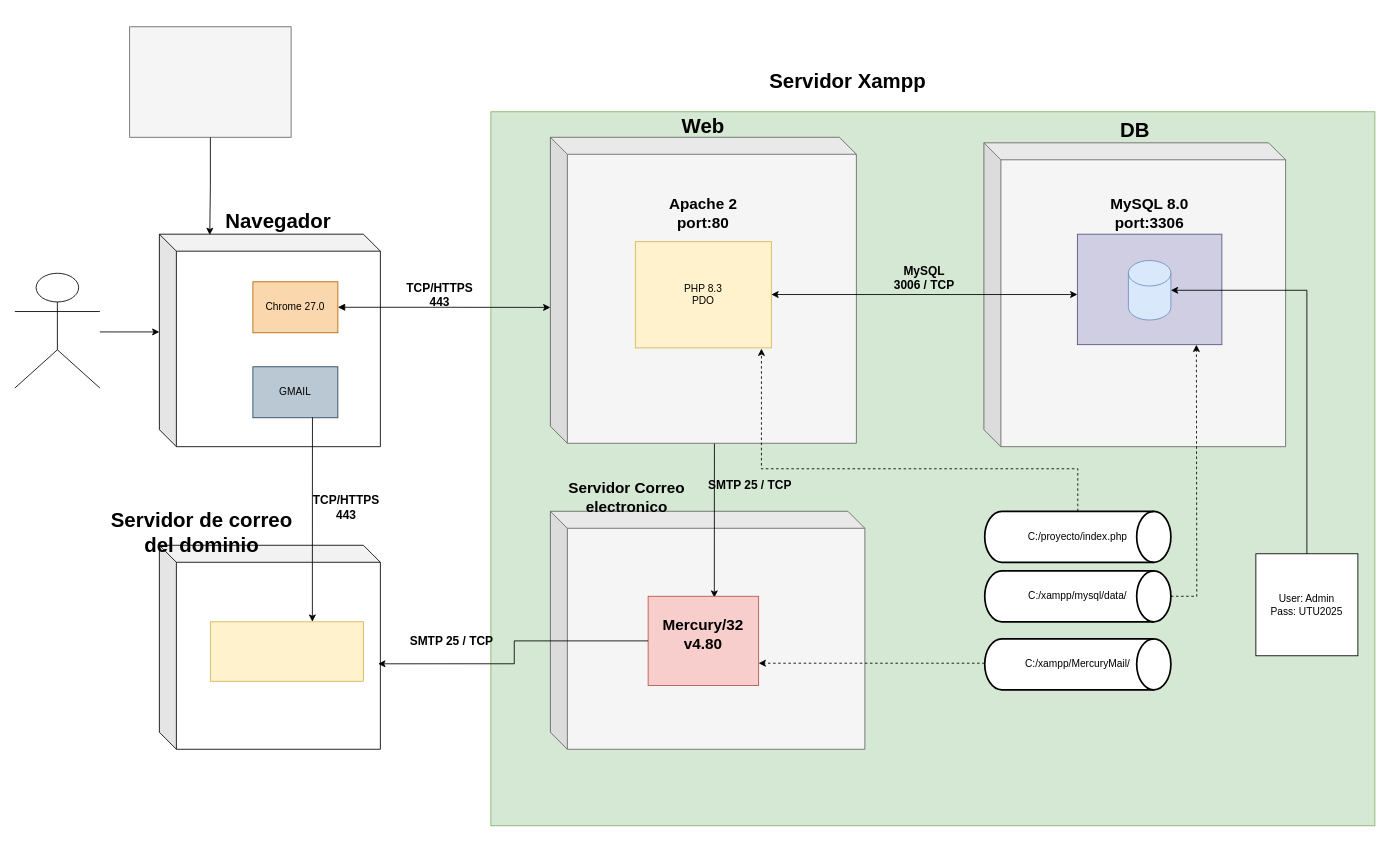
This 1390x841 diagram has some shape labels left out. The shapes that lost their labels are listed below. From the top down, each one's box as (x1, y1, x2, y2) in pixels, then its label:
(129, 26, 291, 137): Windows 11 pro x64 CPU:intel celeron N450 ram:8GB Disk:116GB
(1128, 260, 1171, 320): MiDB
(14, 272, 100, 388): Actor
(210, 621, 363, 681): gmail-smtp-in.l.google.com
